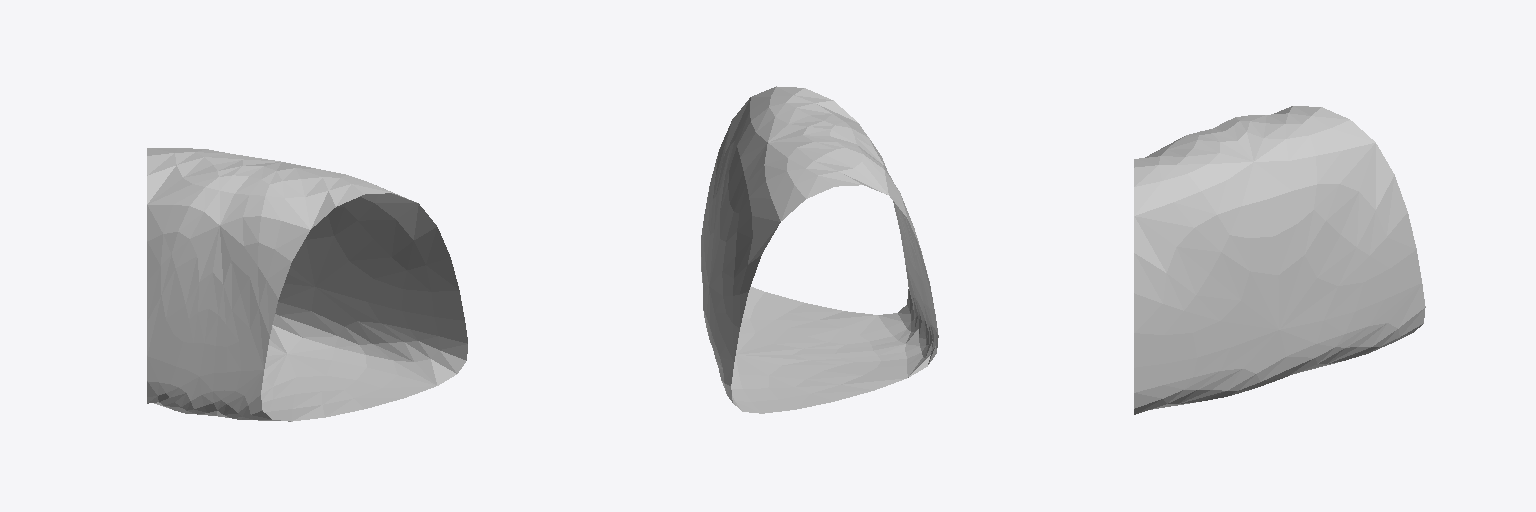
File: cave_601_0.obj
3 renders of one model, left to right at view 1: azimuth 30°, elevation 25°; view 2: azimuth 150°, elevation 25°; view 3: azimuth 270°, elevation 25°, orthographic.
Parts seen in each view (by area): view 1: cave_601_0_Cube.015; view 2: cave_601_0_Cube.015; view 3: cave_601_0_Cube.015.
Part boxes in pixels (left/top/right/bottom): cave_601_0_Cube.015: left=147, top=148, right=467, bottom=421; cave_601_0_Cube.015: left=701, top=86, right=938, bottom=413; cave_601_0_Cube.015: left=1134, top=106, right=1425, bottom=414.
Bounding box in the file's own units: 7.91 × 5.92 × 7.14.